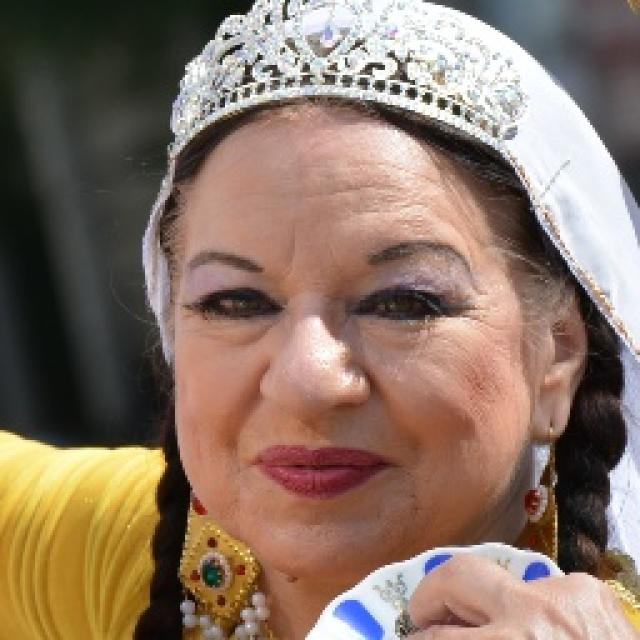earlobe: (530, 284, 586, 442)
